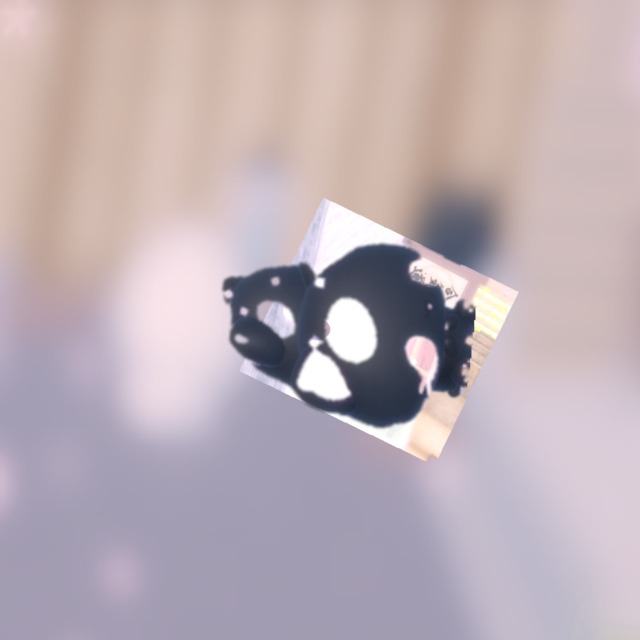urso_branco: (239, 197, 519, 466)
urso_preto: (190, 206, 485, 445)
